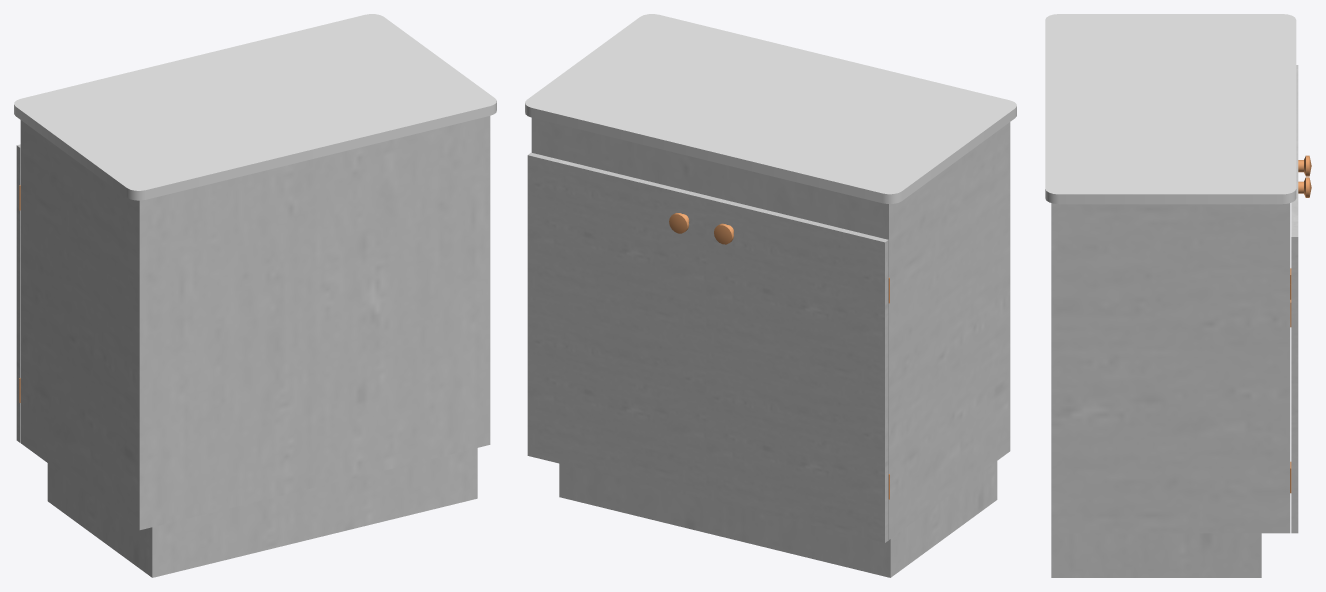
The model's file is BathroomVanity07.fbx.
3 views of the same model, side by side, from view 1: azimuth 30°, elevation 25°; view 2: azimuth 150°, elevation 25°; view 3: azimuth 270°, elevation 25° (orthographic).
Visible parts, largest first — view 1: BathroomVanity07, BathroomVanity07DoorR; view 2: BathroomVanity07, BathroomVanity07DoorR, BathroomVanity07DoorL; view 3: BathroomVanity07, BathroomVanity07DoorL, BathroomVanity07DoorR.
Boxes of the visible parts, left/top/right/bottom form: BathroomVanity07: left=14, top=14, right=496, bottom=577; BathroomVanity07DoorR: left=16, top=144, right=20, bottom=442; BathroomVanity07: left=525, top=14, right=1016, bottom=577; BathroomVanity07DoorR: left=706, top=196, right=889, bottom=542; BathroomVanity07DoorL: left=527, top=152, right=709, bottom=499; BathroomVanity07: left=1045, top=14, right=1296, bottom=577; BathroomVanity07DoorL: left=1290, top=151, right=1311, bottom=533; BathroomVanity07DoorR: left=1290, top=65, right=1311, bottom=326.
Size of the model in its own units: 78.46 by 79.89 by 48.95.
